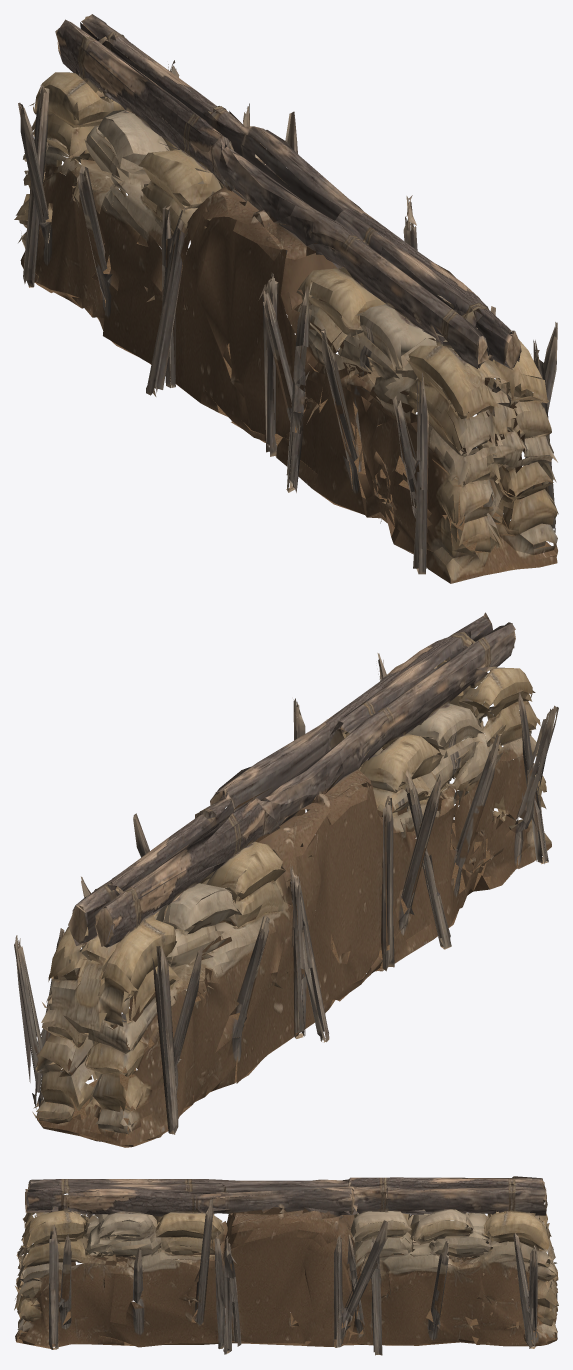
Rendered from parapeto.glb.
The picture shows the model from 3 angles, top to bottom: view 1: azimuth 30°, elevation 25°; view 2: azimuth 150°, elevation 25°; view 3: azimuth 270°, elevation 25°; orthographic projection. The views are drawn at different scales.
Visible parts, largest first — view 1: parapeto; view 2: parapeto; view 3: parapeto.
Part boxes in pixels (<box>): parapeto: <box>14,14,558,583</box>; parapeto: <box>14,612,558,1147</box>; parapeto: <box>14,1176,558,1355</box>.
Size of the model in its own units: 0.8094 by 1.02 by 3.33.
1 material, 1 textured.
